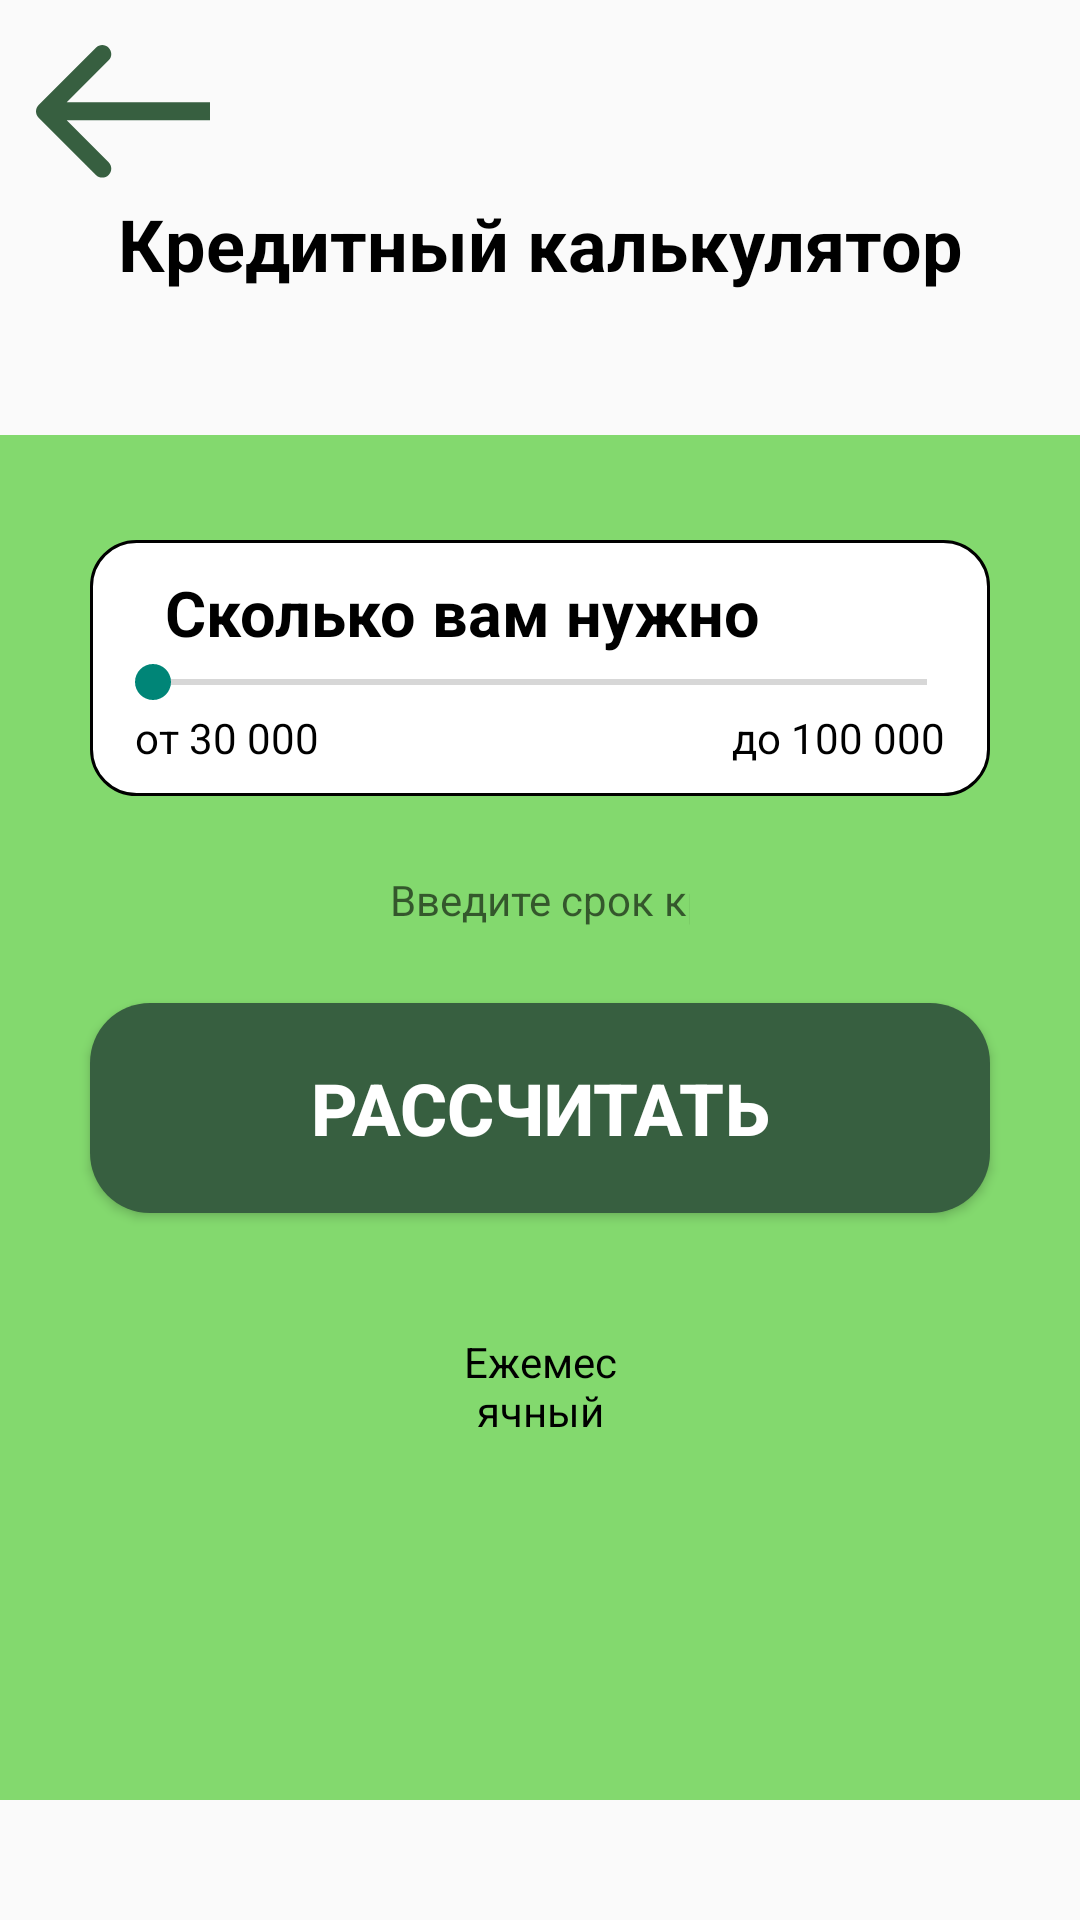

Icon bounding boxes for this 1080x1920 phone screenshot, format (x1, y1, x2, y2):
arrow: (36, 45, 210, 178)
